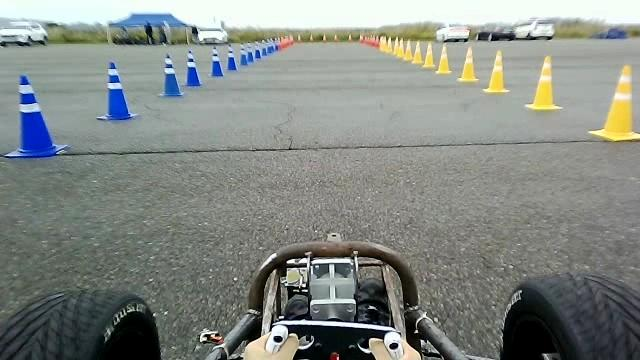blue cone: (3, 73, 69, 157), (96, 61, 137, 120), (158, 52, 183, 96), (184, 49, 201, 86), (208, 45, 224, 76), (226, 43, 237, 70), (239, 42, 248, 65)
yellow cone: (587, 63, 639, 141), (524, 54, 562, 110), (482, 49, 509, 93), (456, 45, 479, 82), (435, 42, 451, 74), (421, 41, 435, 68), (411, 39, 422, 64), (403, 38, 413, 60), (396, 37, 404, 58)
